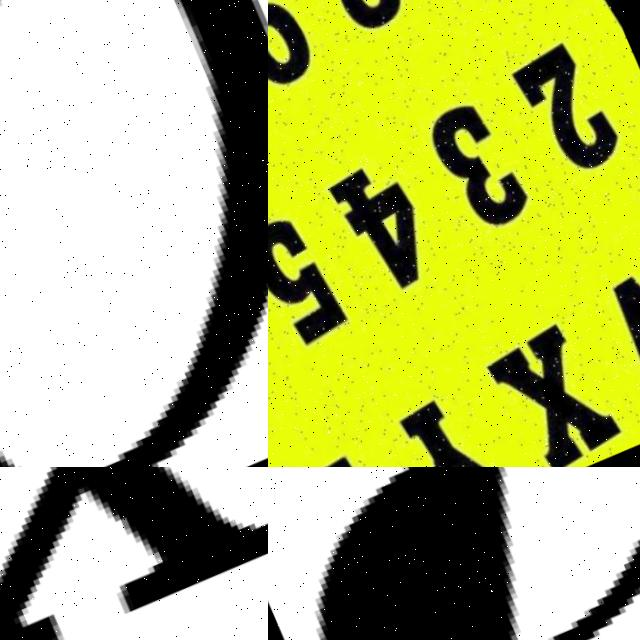2: (494, 10, 640, 191)
3: (268, 467, 640, 640), (408, 79, 549, 247)
4: (308, 123, 481, 325)
5: (268, 183, 380, 377)
8: (277, 0, 435, 58)
9: (268, 0, 347, 120)
X: (0, 467, 268, 640)
